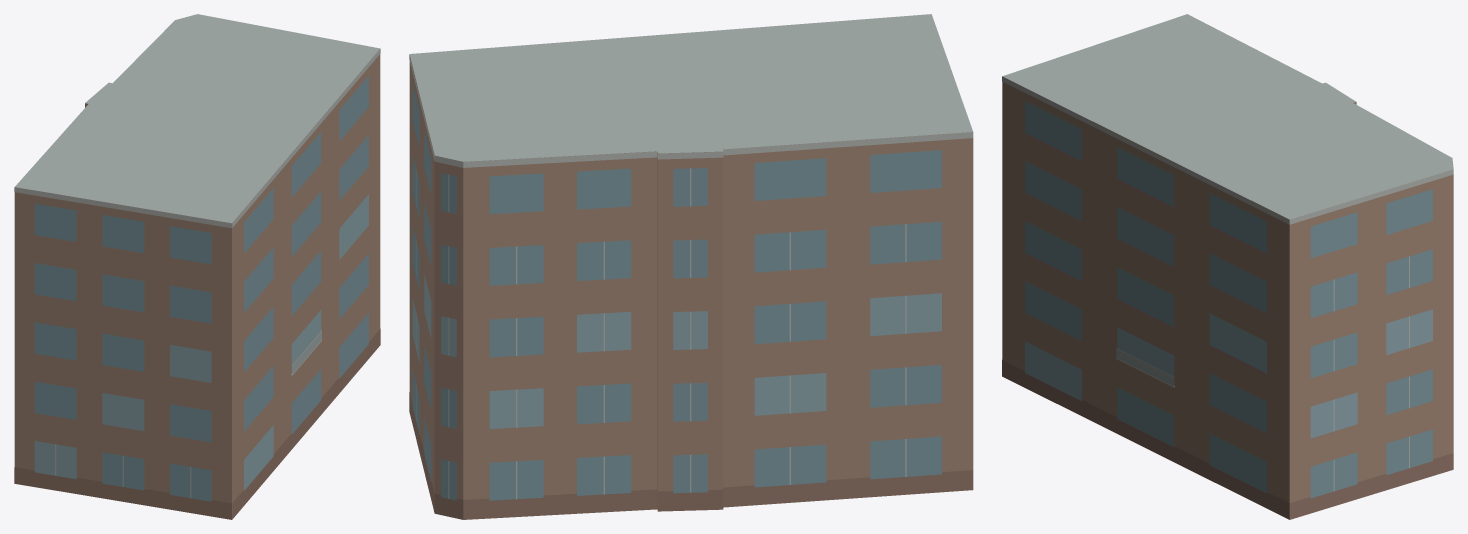
The model's file is survey-upis-33038981.glb.
3 views of the same model, side by side, from view 1: azimuth 30°, elevation 25°; view 2: azimuth 150°, elevation 25°; view 3: azimuth 270°, elevation 25° (orthographic). The views are drawn at different scales.
Visible parts, largest first — view 1: survey-upis-33038981.tmp; view 2: survey-upis-33038981.tmp; view 3: survey-upis-33038981.tmp.
Part boxes in pixels (x1,y1,x2,y2): survey-upis-33038981.tmp: (14,14,380,519); survey-upis-33038981.tmp: (409,14,973,519); survey-upis-33038981.tmp: (1002,14,1453,519).
Size of the model in its own units: 21.17 by 14.4 by 19.64.
